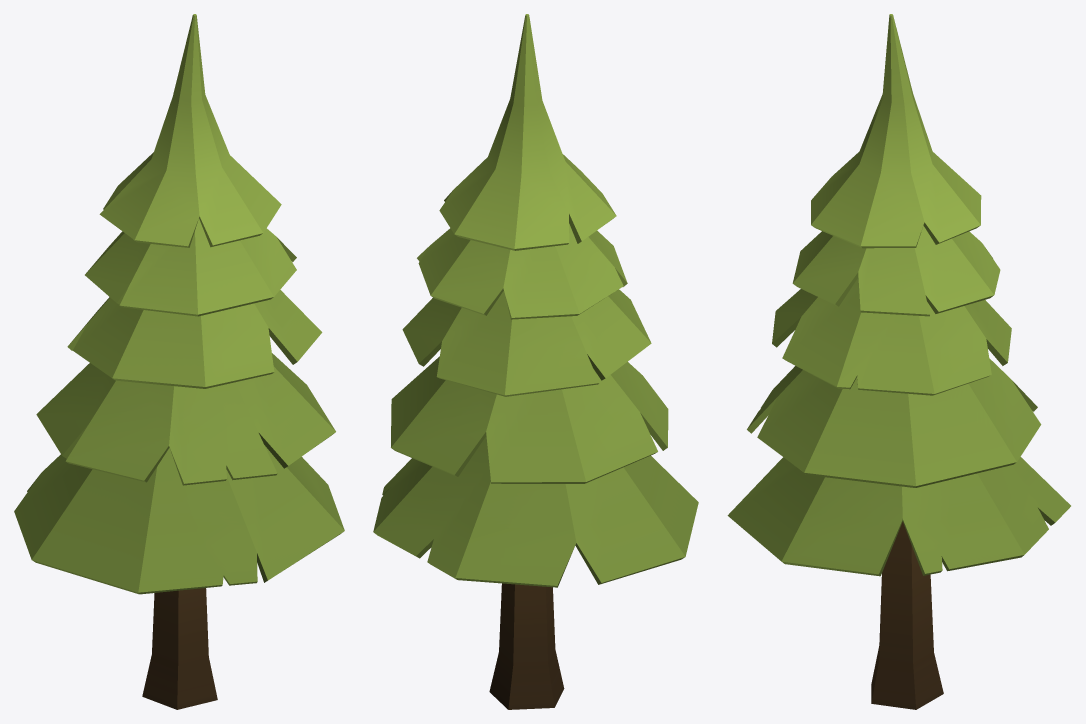
The model's file is Spring_Tree_04.glb.
The picture shows the model from 3 angles, left to right: view 1: azimuth 30°, elevation 25°; view 2: azimuth 150°, elevation 25°; view 3: azimuth 270°, elevation 25°; orthographic projection.
Parts seen in each view (by area): view 1: Spring_Tree_04_LOD0; view 2: Spring_Tree_04_LOD0; view 3: Spring_Tree_04_LOD0.
Part boxes in pixels (x1=…): Spring_Tree_04_LOD0: x1=14, y1=14, x2=344, y2=709; Spring_Tree_04_LOD0: x1=373, y1=14, x2=698, y2=709; Spring_Tree_04_LOD0: x1=727, y1=14, x2=1070, y2=709.
Size of what is drawn, in the model's own units: 1.58 by 3.56 by 1.63.
Materials: 1 (1 with a texture image).
